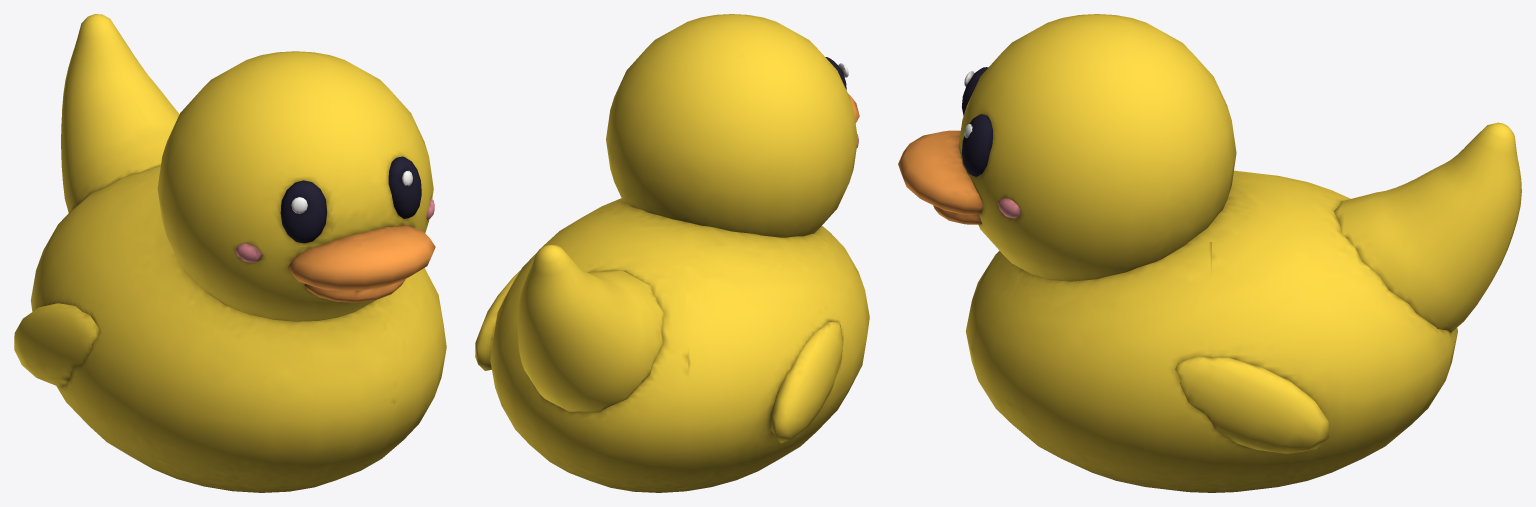
The model's file is rubber_duck.glb.
3 views of the same model, side by side, from view 1: azimuth 30°, elevation 25°; view 2: azimuth 150°, elevation 25°; view 3: azimuth 270°, elevation 25° (orthographic). The views are drawn at different scales.
Parts seen in each view (by area): view 1: rubber_duck; view 2: rubber_duck; view 3: rubber_duck.
Part boxes in pixels (x1=…): rubber_duck: x1=14, y1=14, x2=446, y2=492; rubber_duck: x1=475, y1=14, x2=869, y2=492; rubber_duck: x1=898, y1=14, x2=1521, y2=492.
Size of the model in its own units: 0.0756 by 0.0875 by 0.114.
Materials: 5 (5 with a texture image).
